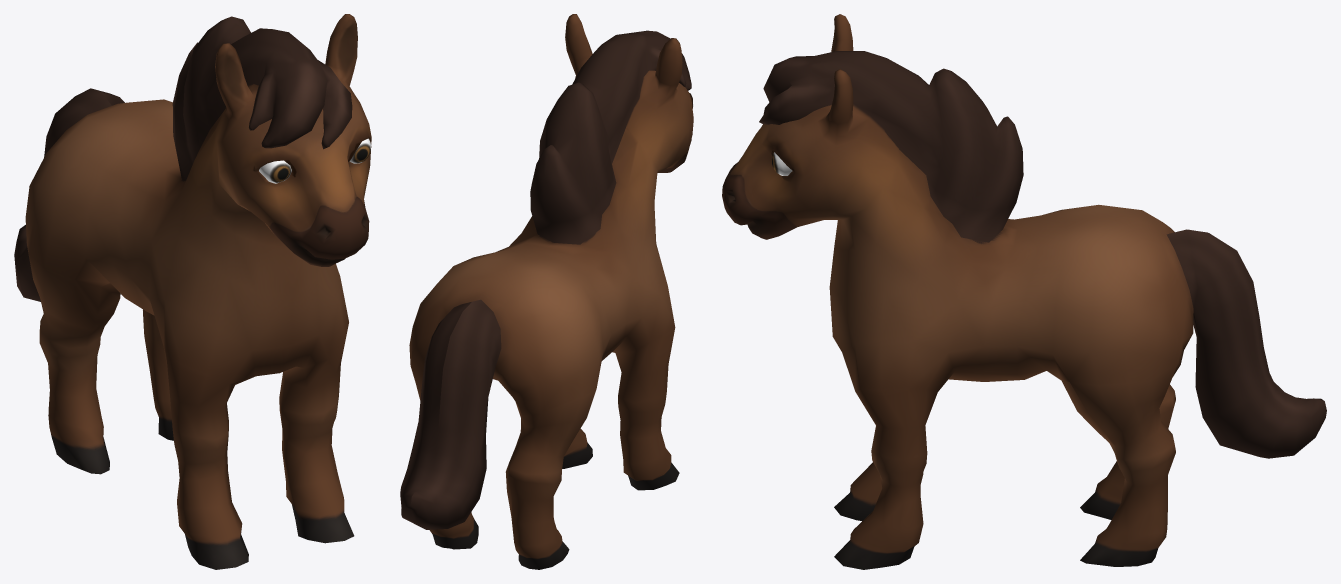
Rendered from Horse.fbx.
3 renders of one model, left to right at view 1: azimuth 30°, elevation 25°; view 2: azimuth 150°, elevation 25°; view 3: azimuth 270°, elevation 25°, orthographic. The views are drawn at different scales.
Parts seen in each view (by area): view 1: Häst; view 2: Häst; view 3: Häst.
Boxes of the visible parts, <box> form: Häst: <box>14,14,371,569</box>; Häst: <box>400,14,693,569</box>; Häst: <box>722,14,1326,569</box>.
Bounding box in the file's own units: 14.84 × 35.84 × 39.77.
